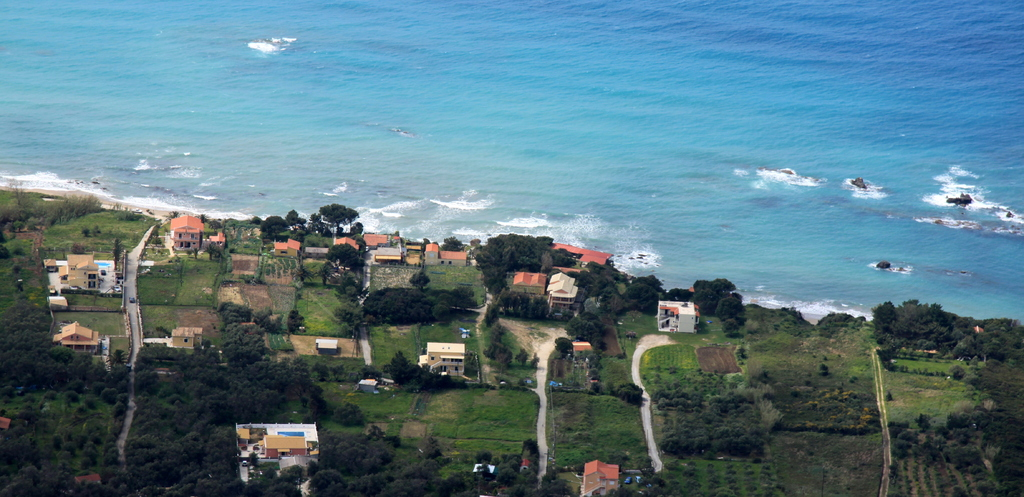Tree: (0, 169, 1023, 496), (877, 295, 965, 361)
